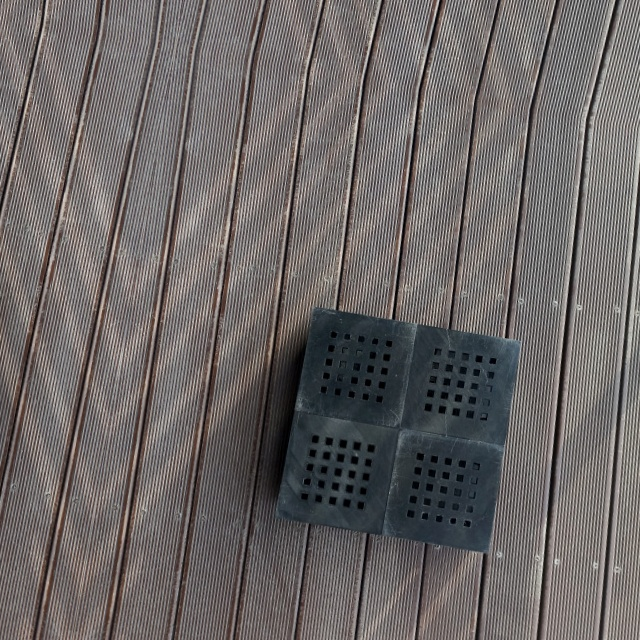pallet: (266, 304, 521, 560)
